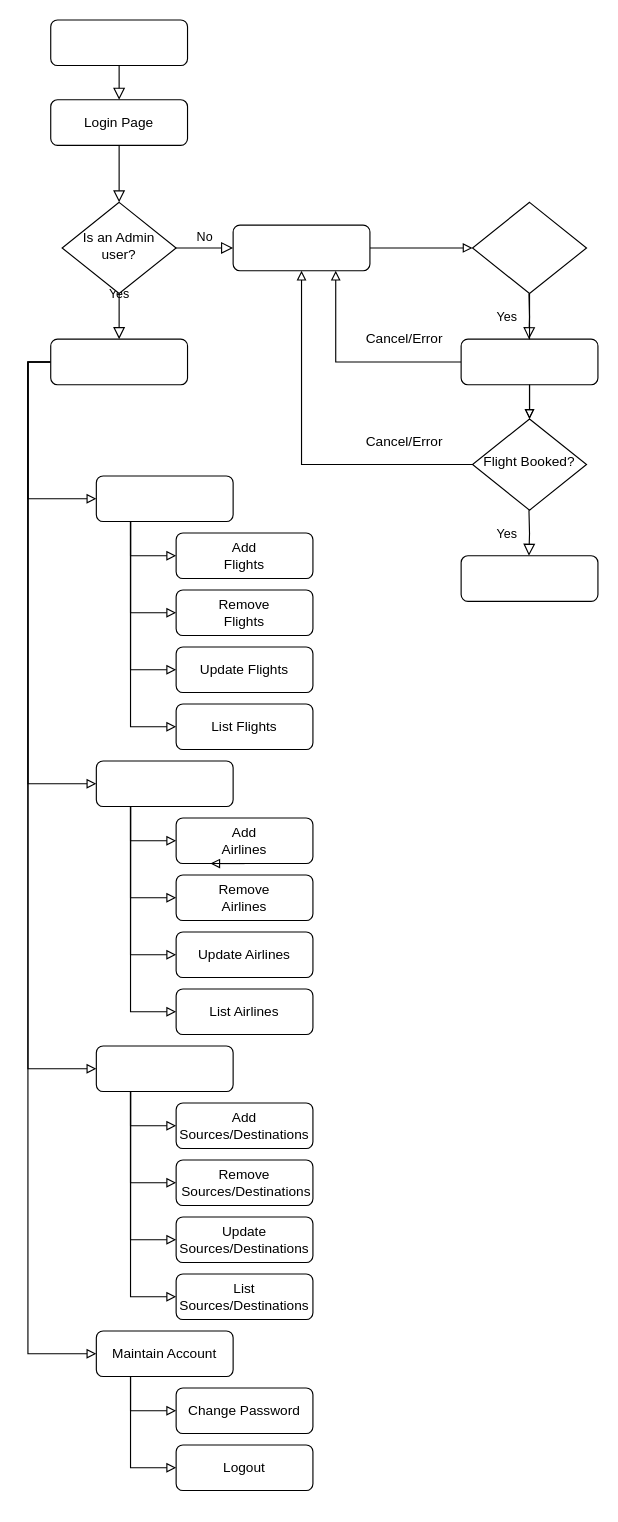
Some shapes in this 618 by 1522 pixel diagram are drawn without their labels. The shapes that lost their labels are listed below. From the top down, each one's box as (x1, y1, x2, y2) in pixels, then its label:
(50, 19, 188, 66): Welcome Page
(232, 224, 370, 271): Search Flights
(471, 201, 587, 294): Found Flight?
(50, 338, 188, 385): Admin Page
(460, 338, 598, 385): Book Flight
(95, 475, 233, 522): Maintain Flights
(460, 555, 598, 601): Confirmation Screen
(95, 760, 233, 807): Maintain Airlines
(95, 1045, 233, 1092): Maintain Sources/Destinations
